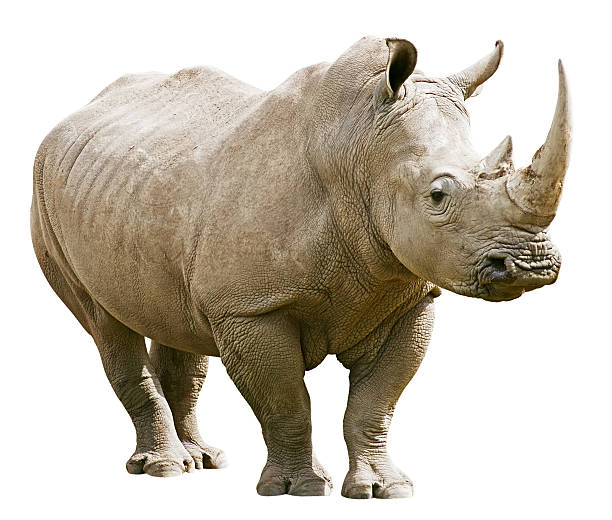rhino: (342, 19, 596, 325)
